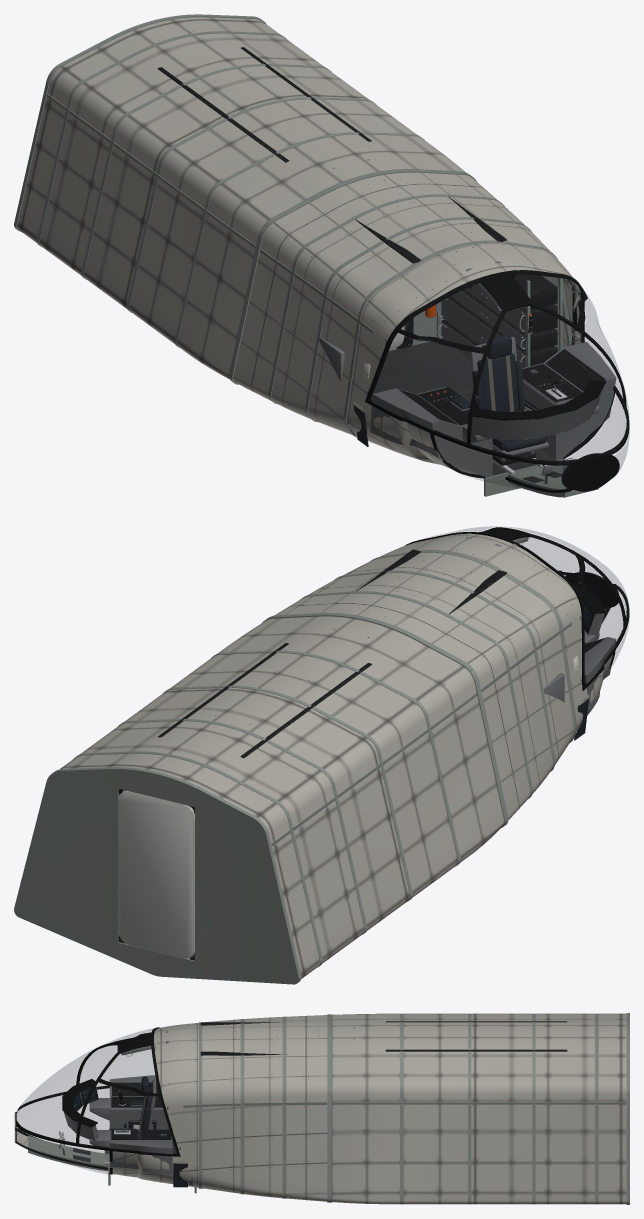
File: chaika_cockpit.glb
The picture shows the model from 3 angles, top to bottom: view 1: azimuth 30°, elevation 25°; view 2: azimuth 150°, elevation 25°; view 3: azimuth 270°, elevation 25°; orthographic projection. The views are drawn at different scales.
Parts seen in each view (by area): view 1: ck_liner_airlock, ck_liner_cockpit, ck_structure_cockpit, ck_rear_cockpit, ck_structure_airlock, ck_canopy_trim, ck_console_R, ck_seat, ck_panel, ck_faceplates, ck_console_L, ck_bulkhead (+3 smaller); view 2: ck_liner_airlock, ck_structure_airlock, ck_liner_cockpit, ck_hatch_proxy, ck_structure_cockpit, ck_glass, ck_canopy_trim, ck_bulkhead, ck_airlock_equip, ck_console_R, ck_rear_cockpit, ck_panel; view 3: ck_liner_airlock, ck_liner_cockpit, ck_glass, ck_structure_airlock, ck_structure_cockpit, ck_canopy_trim, ck_console_R, ck_console_L, ck_faceplates, ck_pedals, ck_panel, ck_bulkhead (+4 smaller).
Part boxes in pixels (box(x1,y1,x2,y2)): ck_liner_airlock: box(17, 17, 465, 379); ck_liner_cockpit: box(233, 172, 587, 491); ck_structure_cockpit: box(260, 194, 619, 496); ck_rear_cockpit: box(319, 196, 562, 381); ck_structure_airlock: box(14, 14, 424, 347); ck_canopy_trim: box(365, 270, 629, 492); ck_console_R: box(370, 387, 492, 477); ck_seat: box(470, 335, 548, 474); ck_panel: box(467, 380, 606, 439); ck_faceplates: box(399, 349, 605, 425); ck_console_L: box(521, 342, 616, 460); ck_bulkhead: box(228, 169, 477, 384); ck_liner_airlock: box(60, 616, 504, 978); ck_structure_airlock: box(14, 650, 477, 984); ck_liner_cockpit: box(274, 534, 612, 819); ck_hatch_proxy: box(118, 791, 194, 958); ck_structure_cockpit: box(300, 550, 619, 798); ck_glass: box(424, 526, 629, 667); ck_canopy_trim: box(404, 527, 629, 690); ck_bulkhead: box(262, 613, 508, 827); ck_airlock_equip: box(158, 628, 371, 765); ck_console_R: box(584, 630, 616, 713); ck_rear_cockpit: box(356, 549, 564, 702); ck_panel: box(572, 583, 606, 636); ck_liner_airlock: box(332, 1013, 626, 1204); ck_liner_cockpit: box(16, 1015, 327, 1201); ck_glass: box(14, 1028, 155, 1174); ck_structure_airlock: box(332, 1013, 629, 1204); ck_structure_cockpit: box(15, 1016, 326, 1198); ck_canopy_trim: box(15, 1027, 180, 1174); ck_console_R: box(89, 1075, 172, 1129); ck_console_L: box(89, 1130, 172, 1175); ck_faceplates: box(76, 1082, 171, 1139); ck_pedals: box(28, 1131, 108, 1171); ck_panel: box(62, 1079, 98, 1141); ck_bulkhead: box(327, 1014, 332, 1202).
Size of the model in its own units: 3.33 by 2.26 by 8.82.
10 materials, 8 textured.
